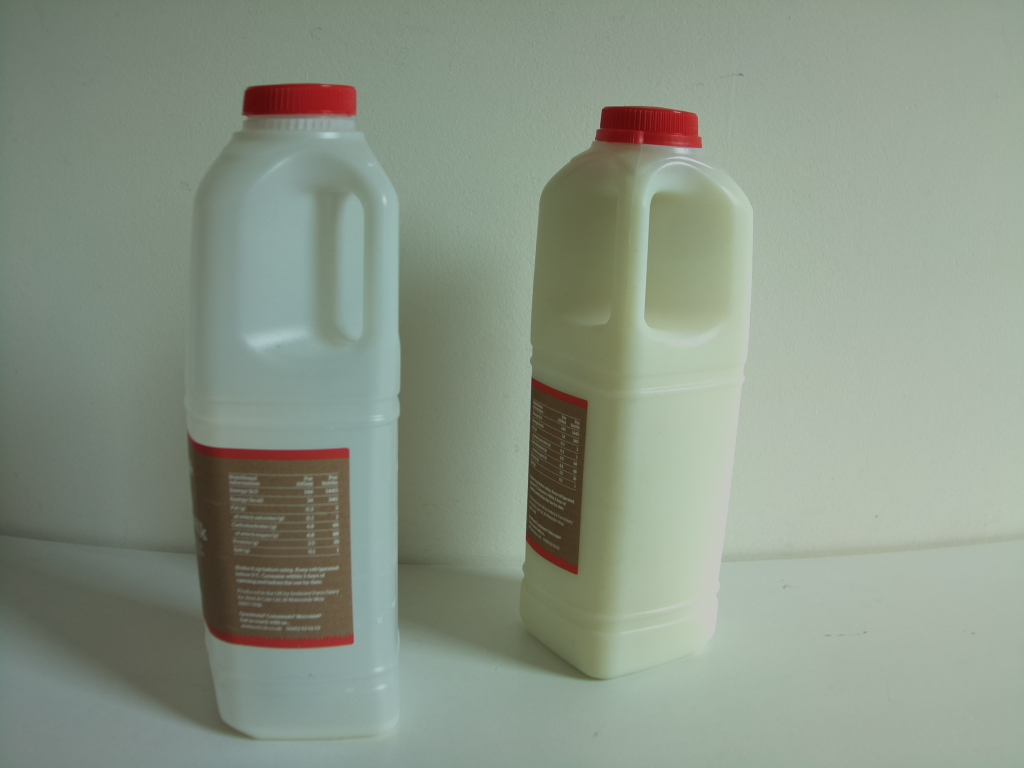milk: (177, 80, 419, 742), (512, 101, 756, 682)
